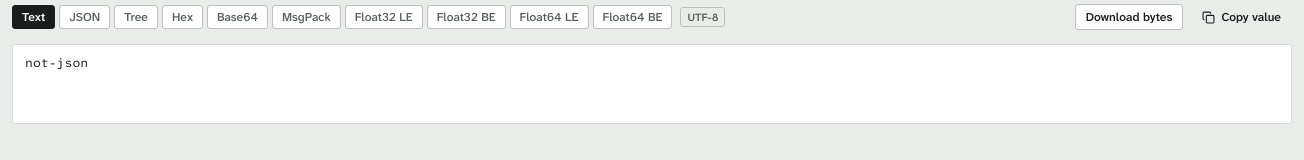
Test: safe Redis rendering › shows formatter errors instead of breaking the view
What coordinates should you click on to do the following:
click the tab "JSON"
I would click on:
 (85, 17)
Its box is [59, 5, 110, 29].
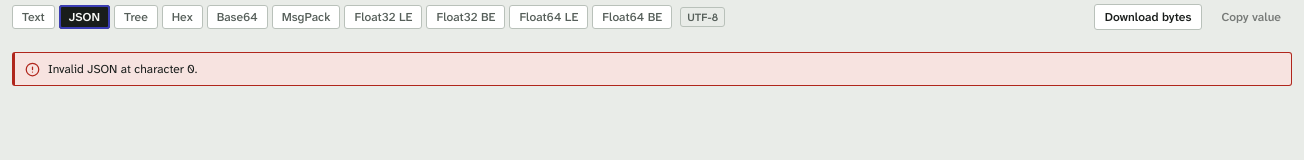
Now the message "Invalid JSON at character 0." is shown, box [12, 52, 1292, 86]
